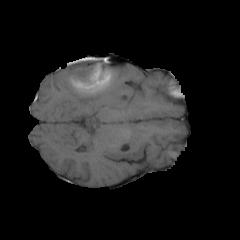glioma: (64, 61, 125, 101)
